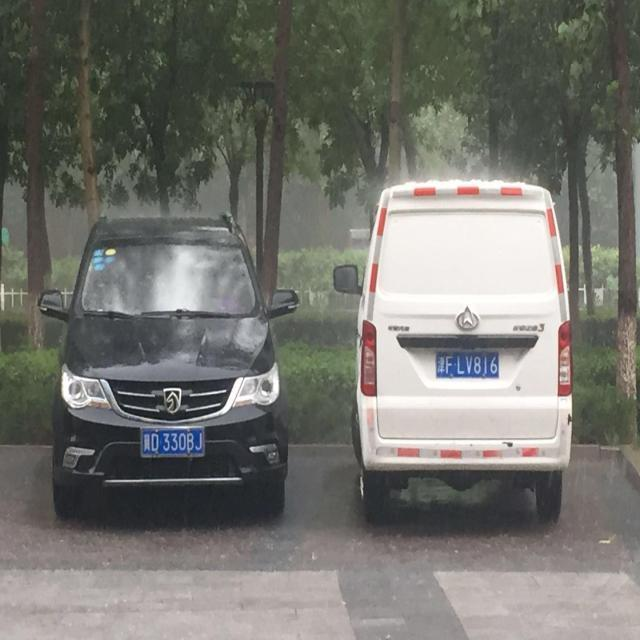car: (35, 211, 299, 518), (333, 180, 572, 518)
